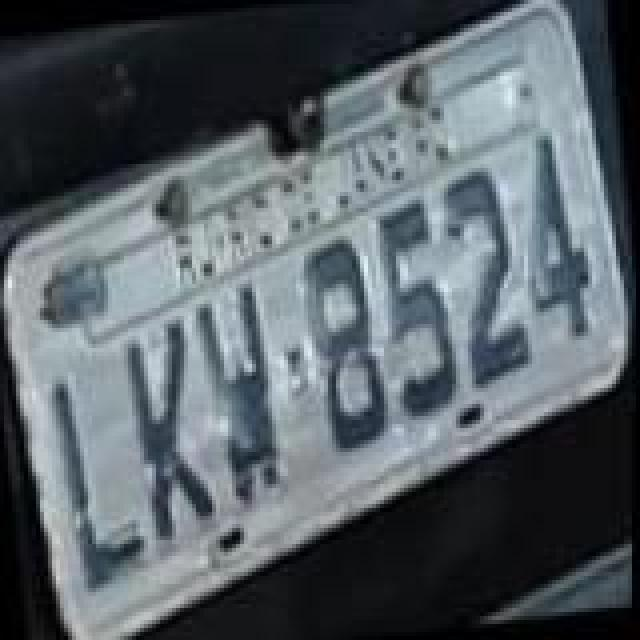2: (430, 160, 534, 388)
4: (508, 128, 604, 344)
5: (368, 194, 464, 422)
8: (288, 230, 392, 458)
K: (114, 314, 218, 546)
L: (46, 366, 154, 594)
W: (186, 272, 290, 508)
